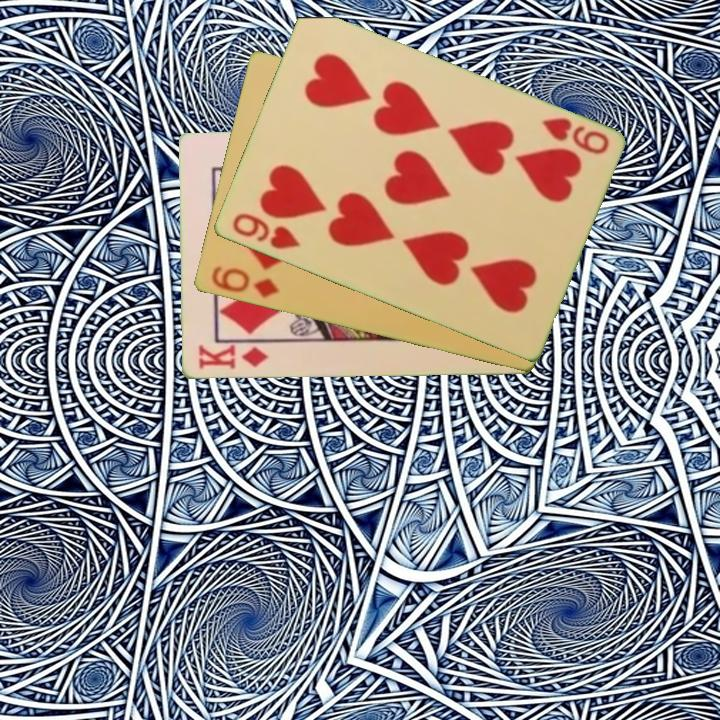6d: (207, 263, 282, 302)
9h: (537, 114, 612, 158), (228, 210, 302, 253)
Kd: (195, 342, 271, 373)
